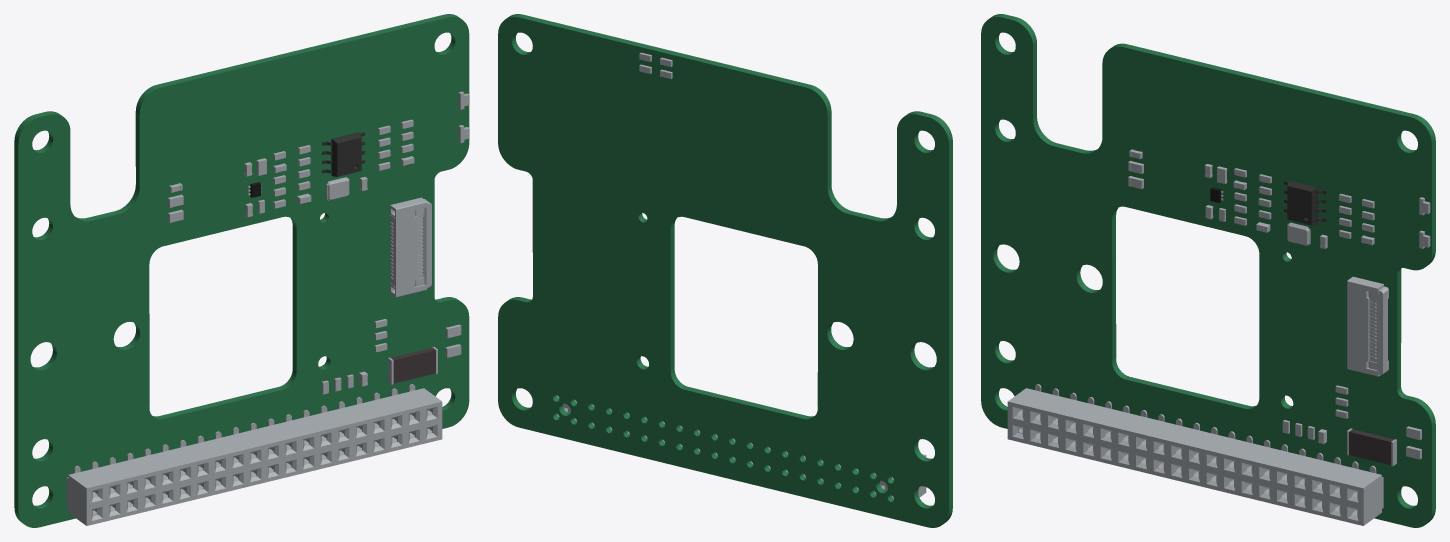
Rendered from waveshare-m2-hat.glb.
3 renders of one model, left to right at view 1: azimuth 30°, elevation 25°; view 2: azimuth 150°, elevation 25°; view 3: azimuth 330°, elevation 25°, orthographic.
Parts seen in each view (by area): view 1: Board, _2_1_2_3_4_AF0, User_Library-sop-8, Extruded; view 2: Board, _2_1_2_3_4_AF0; view 3: Board, _2_1_2_3_4_AF0, User_Library-sop-8, Extruded.
Part boxes in pixels (x1,y1,x2,y2): Board: (14,14,469,527); _2_1_2_3_4_AF0: (66,91,469,525); User_Library-sop-8: (322,132,364,176); Extruded: (391,347,435,383); Board: (498,14,952,527); _2_1_2_3_4_AF0: (557,52,926,498); Board: (981,14,1435,527); _2_1_2_3_4_AF0: (1007,149,1430,525); User_Library-sop-8: (1284,180,1326,225); Extruded: (1349,429,1393,465).
Bounding box in the file's own units: 0.065 × 0.0565 × 0.00659.
